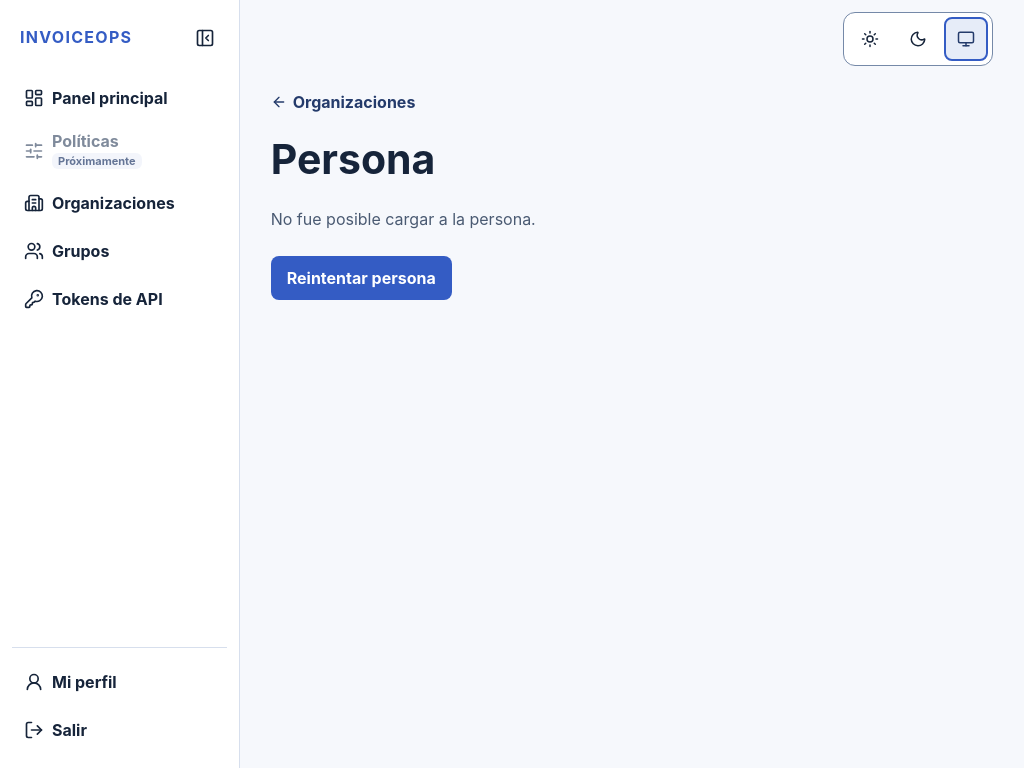
basic user profile at /users/:userId (AC-17) › offers a retry when the read fails
Click the button "Reintentar persona". click: (361, 278)
box: [271, 256, 452, 300]
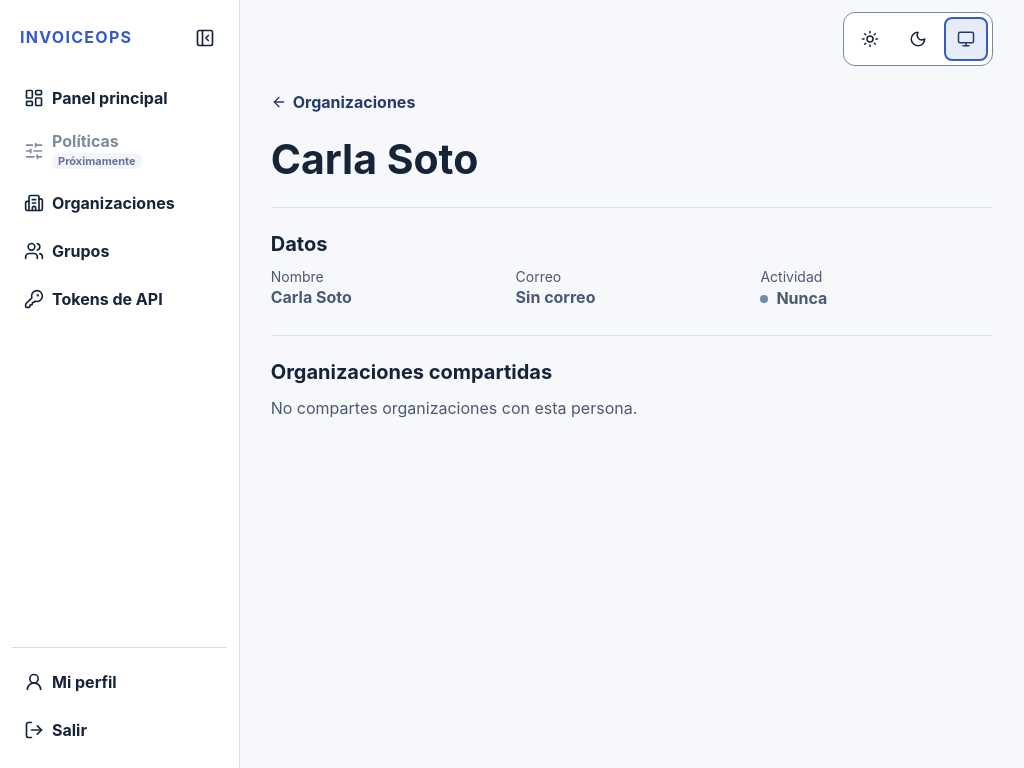
Expected: the heading "Carla Soto" is shown, [271, 134, 478, 184]
Expected: the text "No compartes organizaciones con esta persona." is shown, [271, 398, 637, 418]
